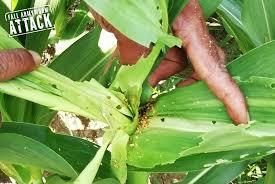fallarmy_worm: (139, 102, 150, 130)
